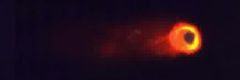keyhole: (182, 28, 196, 46)
